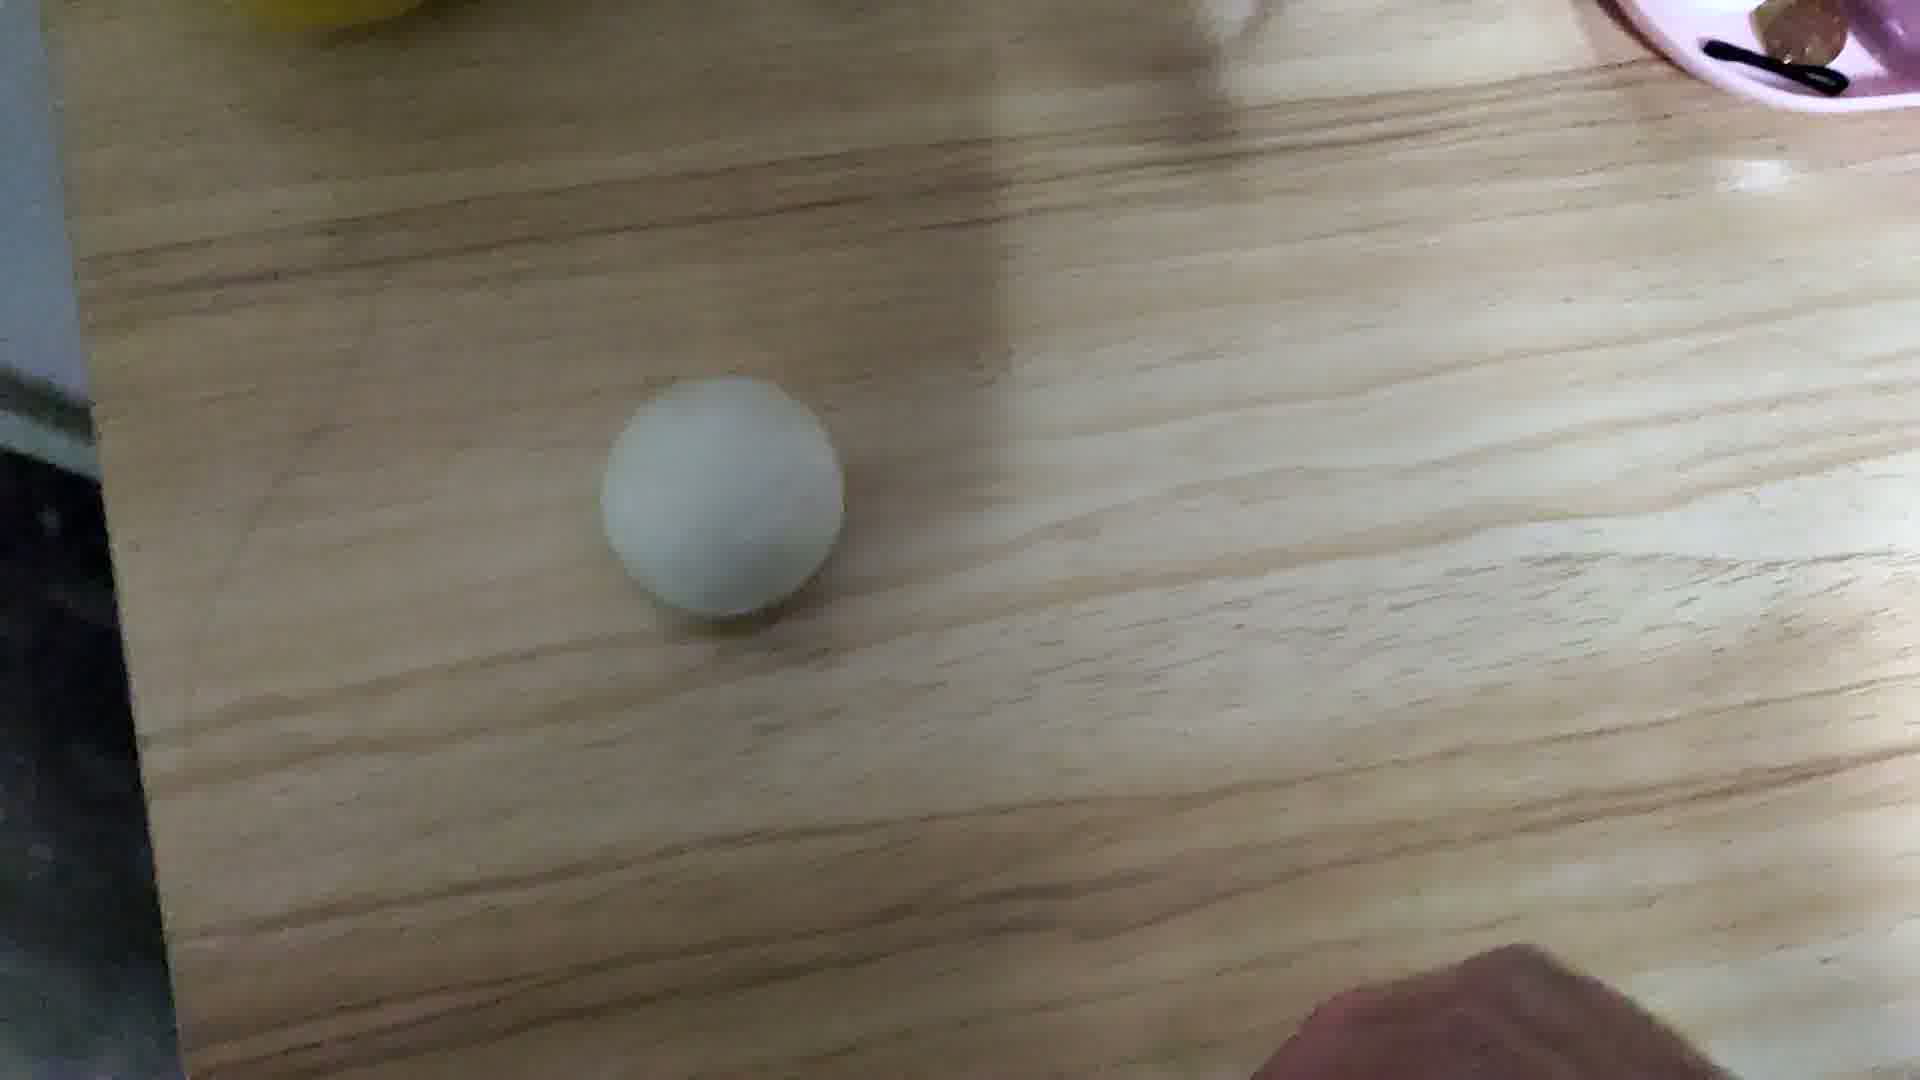Ball: (599, 377, 843, 618)
